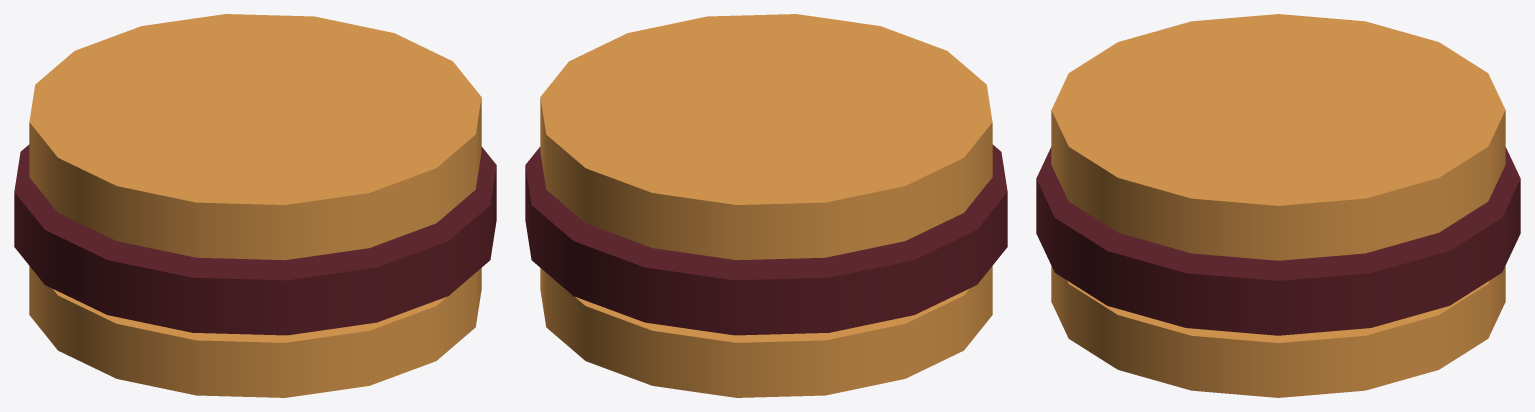
File: 30_burger.glb
The picture shows the model from 3 angles, left to right: view 1: azimuth 30°, elevation 25°; view 2: azimuth 150°, elevation 25°; view 3: azimuth 270°, elevation 25°; orthographic projection.
Parts seen in each view (by area): view 1: items/30_burger; view 2: items/30_burger; view 3: items/30_burger.
Boxes of the visible parts, x1,y1,x2,y2 form: items/30_burger: (14,14,496,397); items/30_burger: (525,14,1007,397); items/30_burger: (1036,14,1520,397).
Size of the model in its own units: 0.25 by 0.1094 by 0.25.
1 material, 1 textured.
